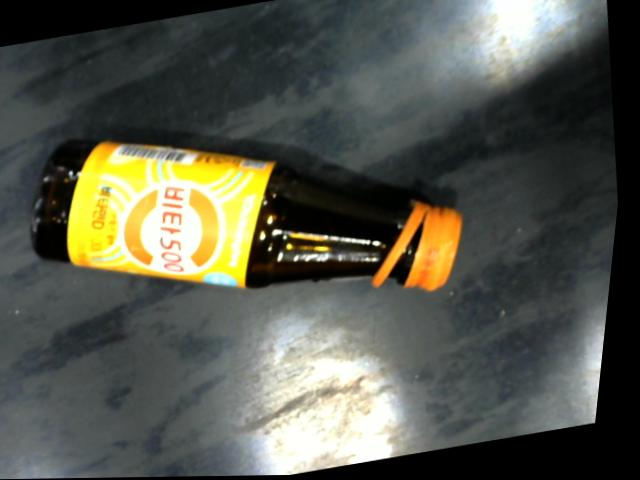glass: (30, 138, 468, 295)
